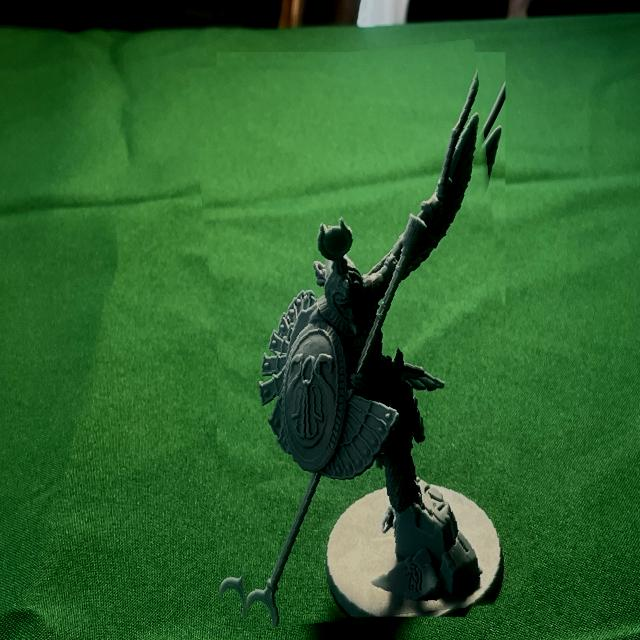isis: (202, 46, 520, 624)
